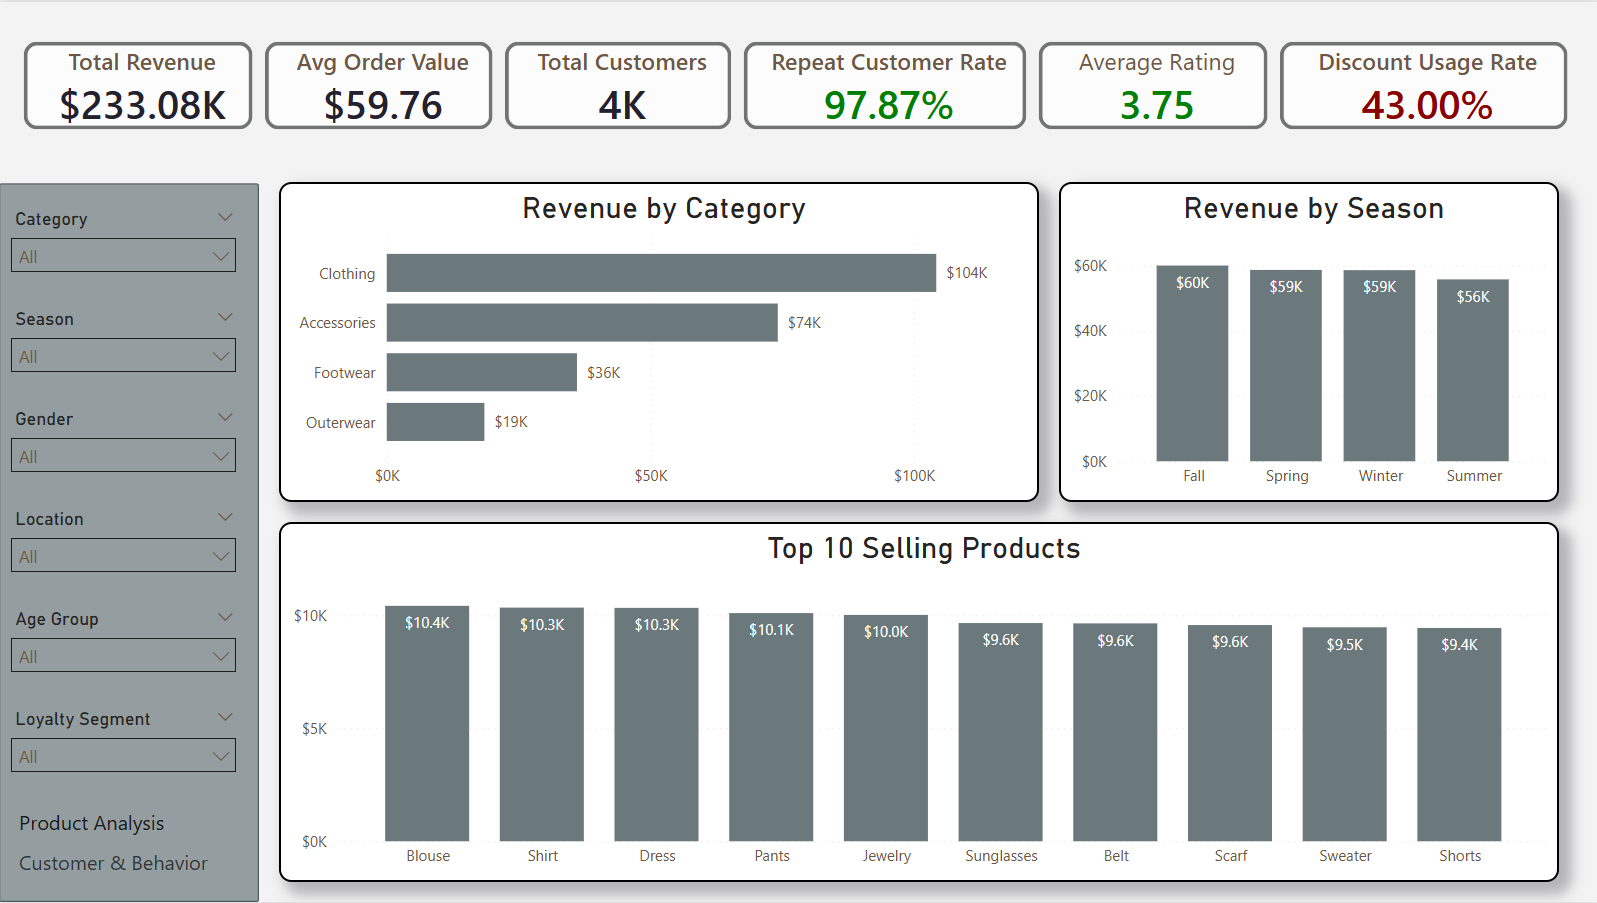

The page's visual inventory and layout, read from the dashboard file:
{"tool":"powerbi","page":{"name":"Overview","canvas":[1280,720],"ordinal":0},"visuals":[{"type":"shape","box":[0,144.7,207.7,575.5],"z":0},{"type":"cardVisual","fields":{"Data":["Measures Table.Average Order Value"]},"box":[207.7,27.2,192.4,80],"z":1000},{"type":"cardVisual","fields":{"Data":["Measures Table.Total Customers"]},"box":[400.1,27.2,190.7,80],"z":2000},{"type":"cardVisual","fields":{"Data":["Measures Table.Repeat Customer Rate"]},"box":[590.8,27.2,236.7,80],"z":3000},{"type":"cardVisual","fields":{"Data":["Measures Table.Average Rating"]},"box":[827.5,27.2,192.4,80],"z":4000},{"type":"cardVisual","fields":{"Data":["Measures Table.Discount Usage Rate"]},"box":[1019.8,27.2,240.1,80],"z":5000},{"type":"clusteredBarChart","title":"Revenue by Category","fields":{"Category":["customer-shopping-trends.Category"],"Y":["Measures Table.Total Revenue"]},"box":[224,144,608,256],"z":6000},{"type":"slicer","fields":{"Values":["customer-shopping-trends.Category"]},"box":[0,159.9,199.9,80],"z":7000},{"type":"clusteredColumnChart","title":"Revenue by Season","fields":{"Category":["customer-shopping-trends.Season"],"Y":["Measures Table.Total Revenue"]},"box":[848,144,400,256],"z":8000},{"type":"slicer","fields":{"Values":["customer-shopping-trends.Season"]},"box":[0,239.9,199.9,80],"z":9000},{"type":"clusteredColumnChart","title":"Top 10 Selling Products","fields":{"Category":["customer-shopping-trends.Item Purchased"],"Y":["Measures Table.Total Revenue"]},"box":[224,416,1024,288],"z":10000},{"type":"slicer","fields":{"Values":["customer-shopping-trends.Gender"]},"box":[0,319.8,199.9,80],"z":11000},{"type":"slicer","fields":{"Values":["customer-shopping-trends.Location"]},"box":[0,399.8,199.9,80],"z":12000},{"type":"actionButton","title":"Overview","box":[16.1,671,184.2,32.2],"z":13000},{"type":"slicer","fields":{"Values":["customer-shopping-trends.Age Group"]},"box":[0,479.7,199.9,80],"z":14000},{"type":"actionButton","title":"Overview","box":[16.1,640.3,184.2,30.7],"z":15000},{"type":"slicer","fields":{"Values":["customer-shopping-trends.Loyalty"]},"box":[0,559.7,199.9,80],"z":16000},{"type":"cardVisual","fields":{"Data":["Measures Table.Total Revenue"]},"box":[15.3,27.2,192.4,80],"z":17000}]}

Visuals, with their boxes in screenshot pixels (x1, y1, x2, y2), scaled from the page's 1280x720 canvas onto the 1597x903 screenshot:
shape: (0, 181, 259, 902)
cardVisual - Measures Table.Average Order Value: (259, 34, 499, 134)
cardVisual - Measures Table.Total Customers: (499, 34, 737, 134)
cardVisual - Measures Table.Repeat Customer Rate: (737, 34, 1032, 134)
cardVisual - Measures Table.Average Rating: (1032, 34, 1272, 134)
cardVisual - Measures Table.Discount Usage Rate: (1272, 34, 1572, 134)
"Revenue by Category" clusteredBarChart: (279, 181, 1038, 502)
slicer - customer-shopping-trends.Category: (0, 201, 249, 301)
"Revenue by Season" clusteredColumnChart: (1058, 181, 1557, 502)
slicer - customer-shopping-trends.Season: (0, 301, 249, 401)
"Top 10 Selling Products" clusteredColumnChart: (279, 522, 1557, 883)
slicer - customer-shopping-trends.Gender: (0, 401, 249, 501)
slicer - customer-shopping-trends.Location: (0, 501, 249, 602)
"Overview" actionButton: (20, 842, 250, 882)
slicer - customer-shopping-trends.Age Group: (0, 602, 249, 702)
"Overview" actionButton: (20, 803, 250, 842)
slicer - customer-shopping-trends.Loyalty: (0, 702, 249, 802)
cardVisual - Measures Table.Total Revenue: (19, 34, 259, 134)
